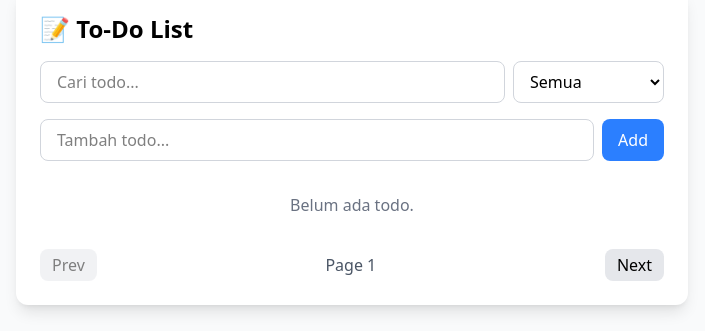
Test: Home Component › menambahkan todo baru
Type "Todo Baru" into the field with placeholder "Tambah todo..." at (317, 140), box [40,119,594,161]
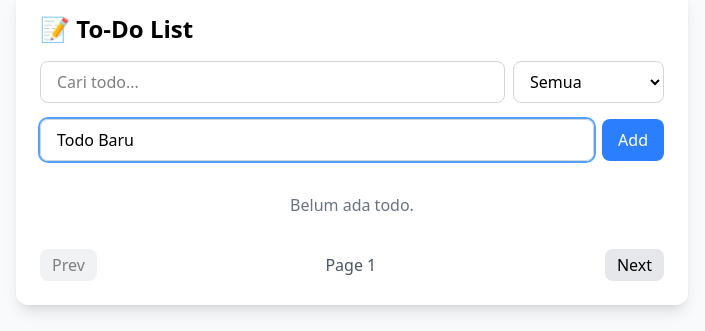
Click the button "Add" at (633, 140), box [602,119,664,161]
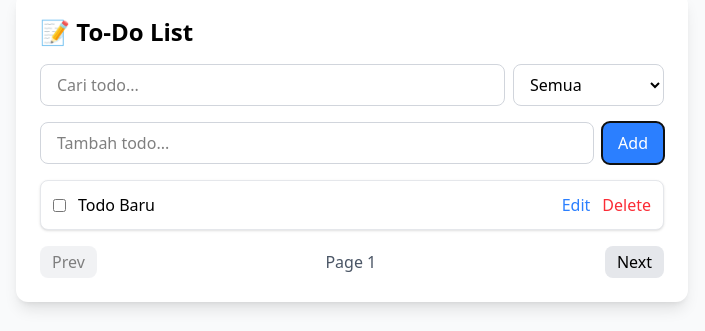
Expected: the text "Todo Baru" is shown, [78,193,155,217]
